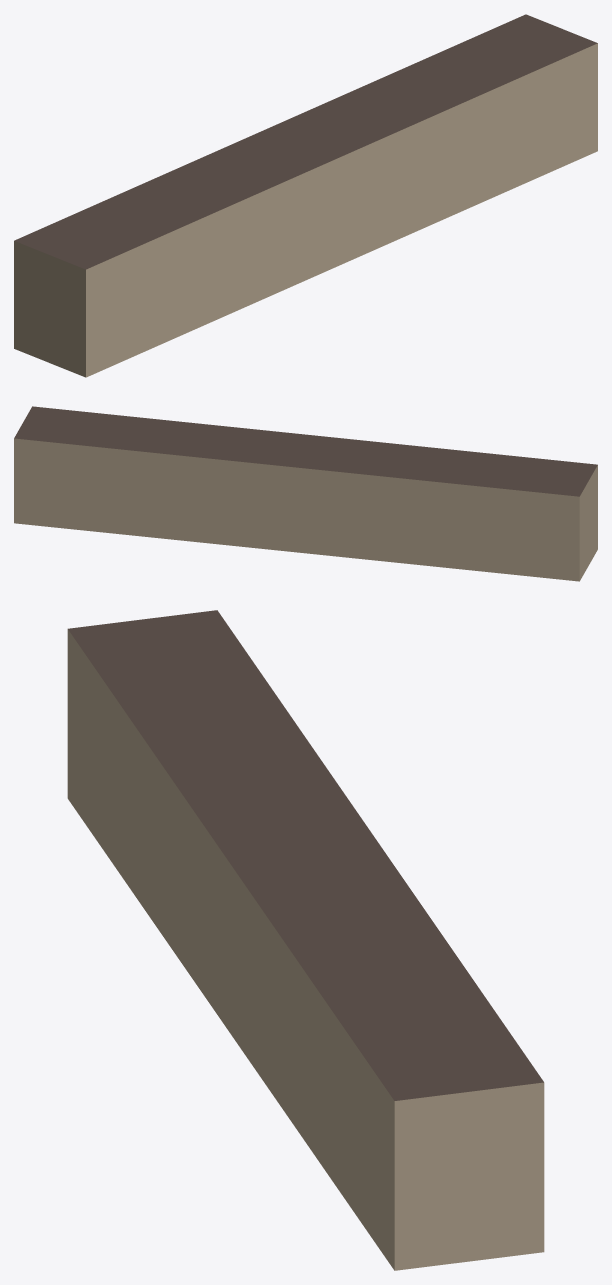
The picture shows the model from 3 angles, top to bottom: view 1: azimuth 30°, elevation 25°; view 2: azimuth 150°, elevation 25°; view 3: azimuth 270°, elevation 25°; orthographic projection. The views are drawn at different scales.
Visible parts, largest first — view 1: HP-w859424173; view 2: HP-w859424173; view 3: HP-w859424173.
Boxes of the visible parts, bbox=[...] form: HP-w859424173: bbox=[14, 14, 597, 377]; HP-w859424173: bbox=[14, 406, 597, 581]; HP-w859424173: bbox=[67, 610, 544, 1270].
Bounding box in the file's own units: 55.84 × 9 × 22.91.
